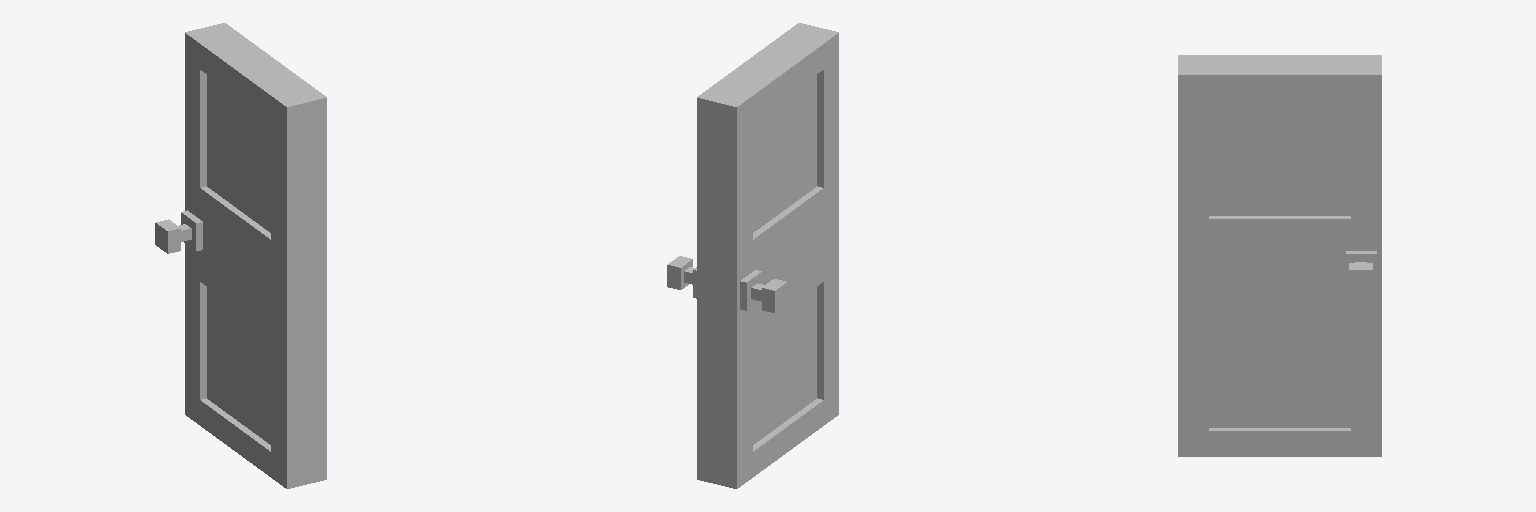
The model's file is Tür 1.obj.
3 views of the same model, side by side, from view 1: azimuth 30°, elevation 25°; view 2: azimuth 150°, elevation 25°; view 3: azimuth 270°, elevation 25° (orthographic).
Parts seen in each view (by area): view 1: Tür_1; view 2: Tür_1; view 3: Tür_1.
Boxes of the visible parts, box(x1,y1,x2,y2) form: Tür_1: box(155, 23, 326, 488); Tür_1: box(667, 23, 838, 488); Tür_1: box(1178, 55, 1381, 456).
Bounding box in the file's own units: 0.8 × 2.71 × 1.32.